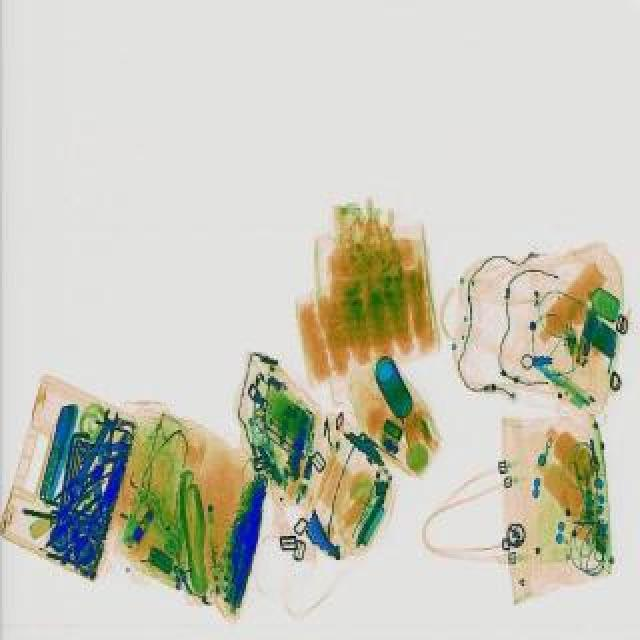scissors: (62, 404, 122, 496)
